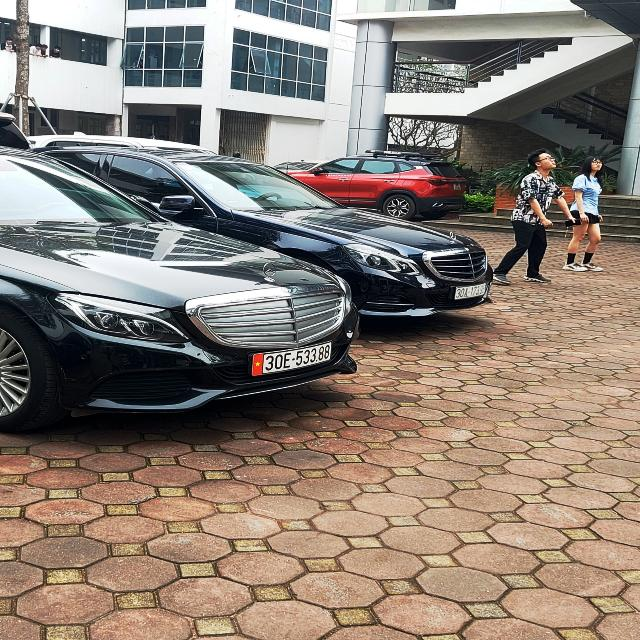license_plate: (253, 342, 333, 377), (455, 284, 488, 301)
